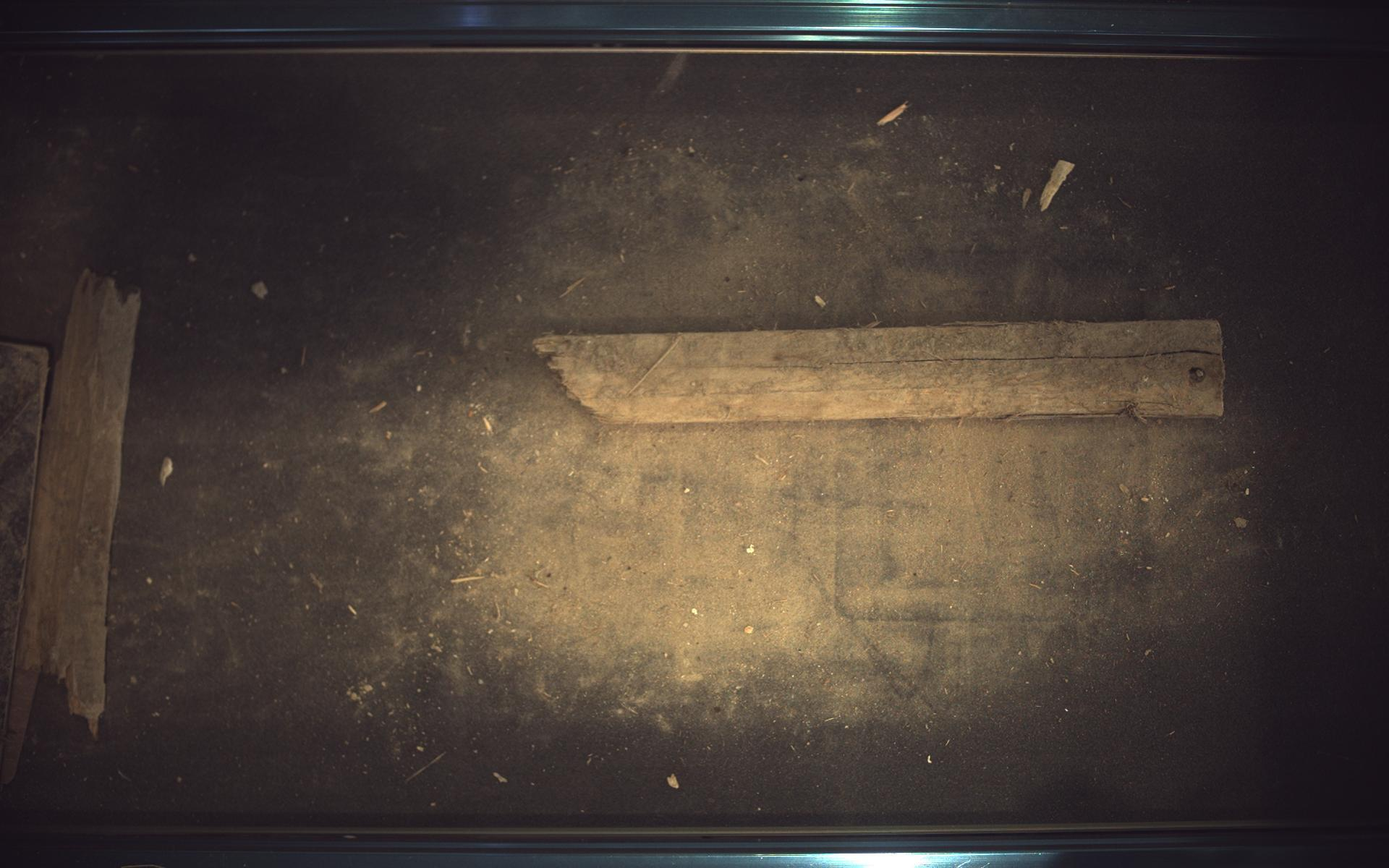wood: (535, 320, 1227, 425)
